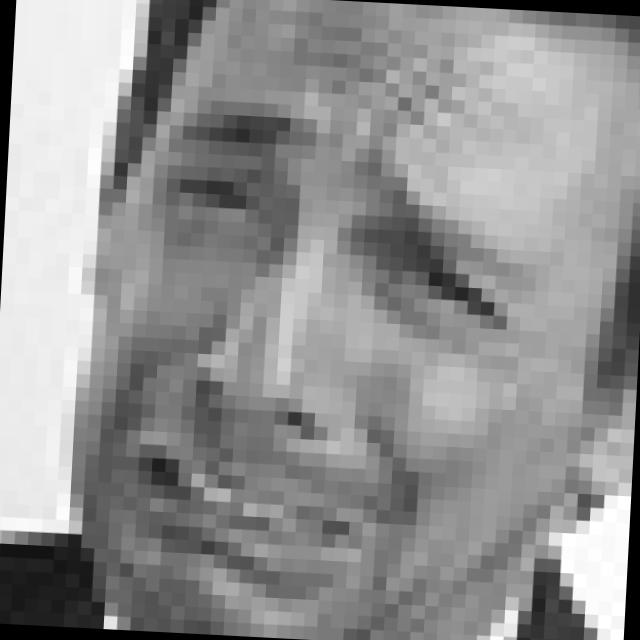sad: (87, 102, 522, 612)
